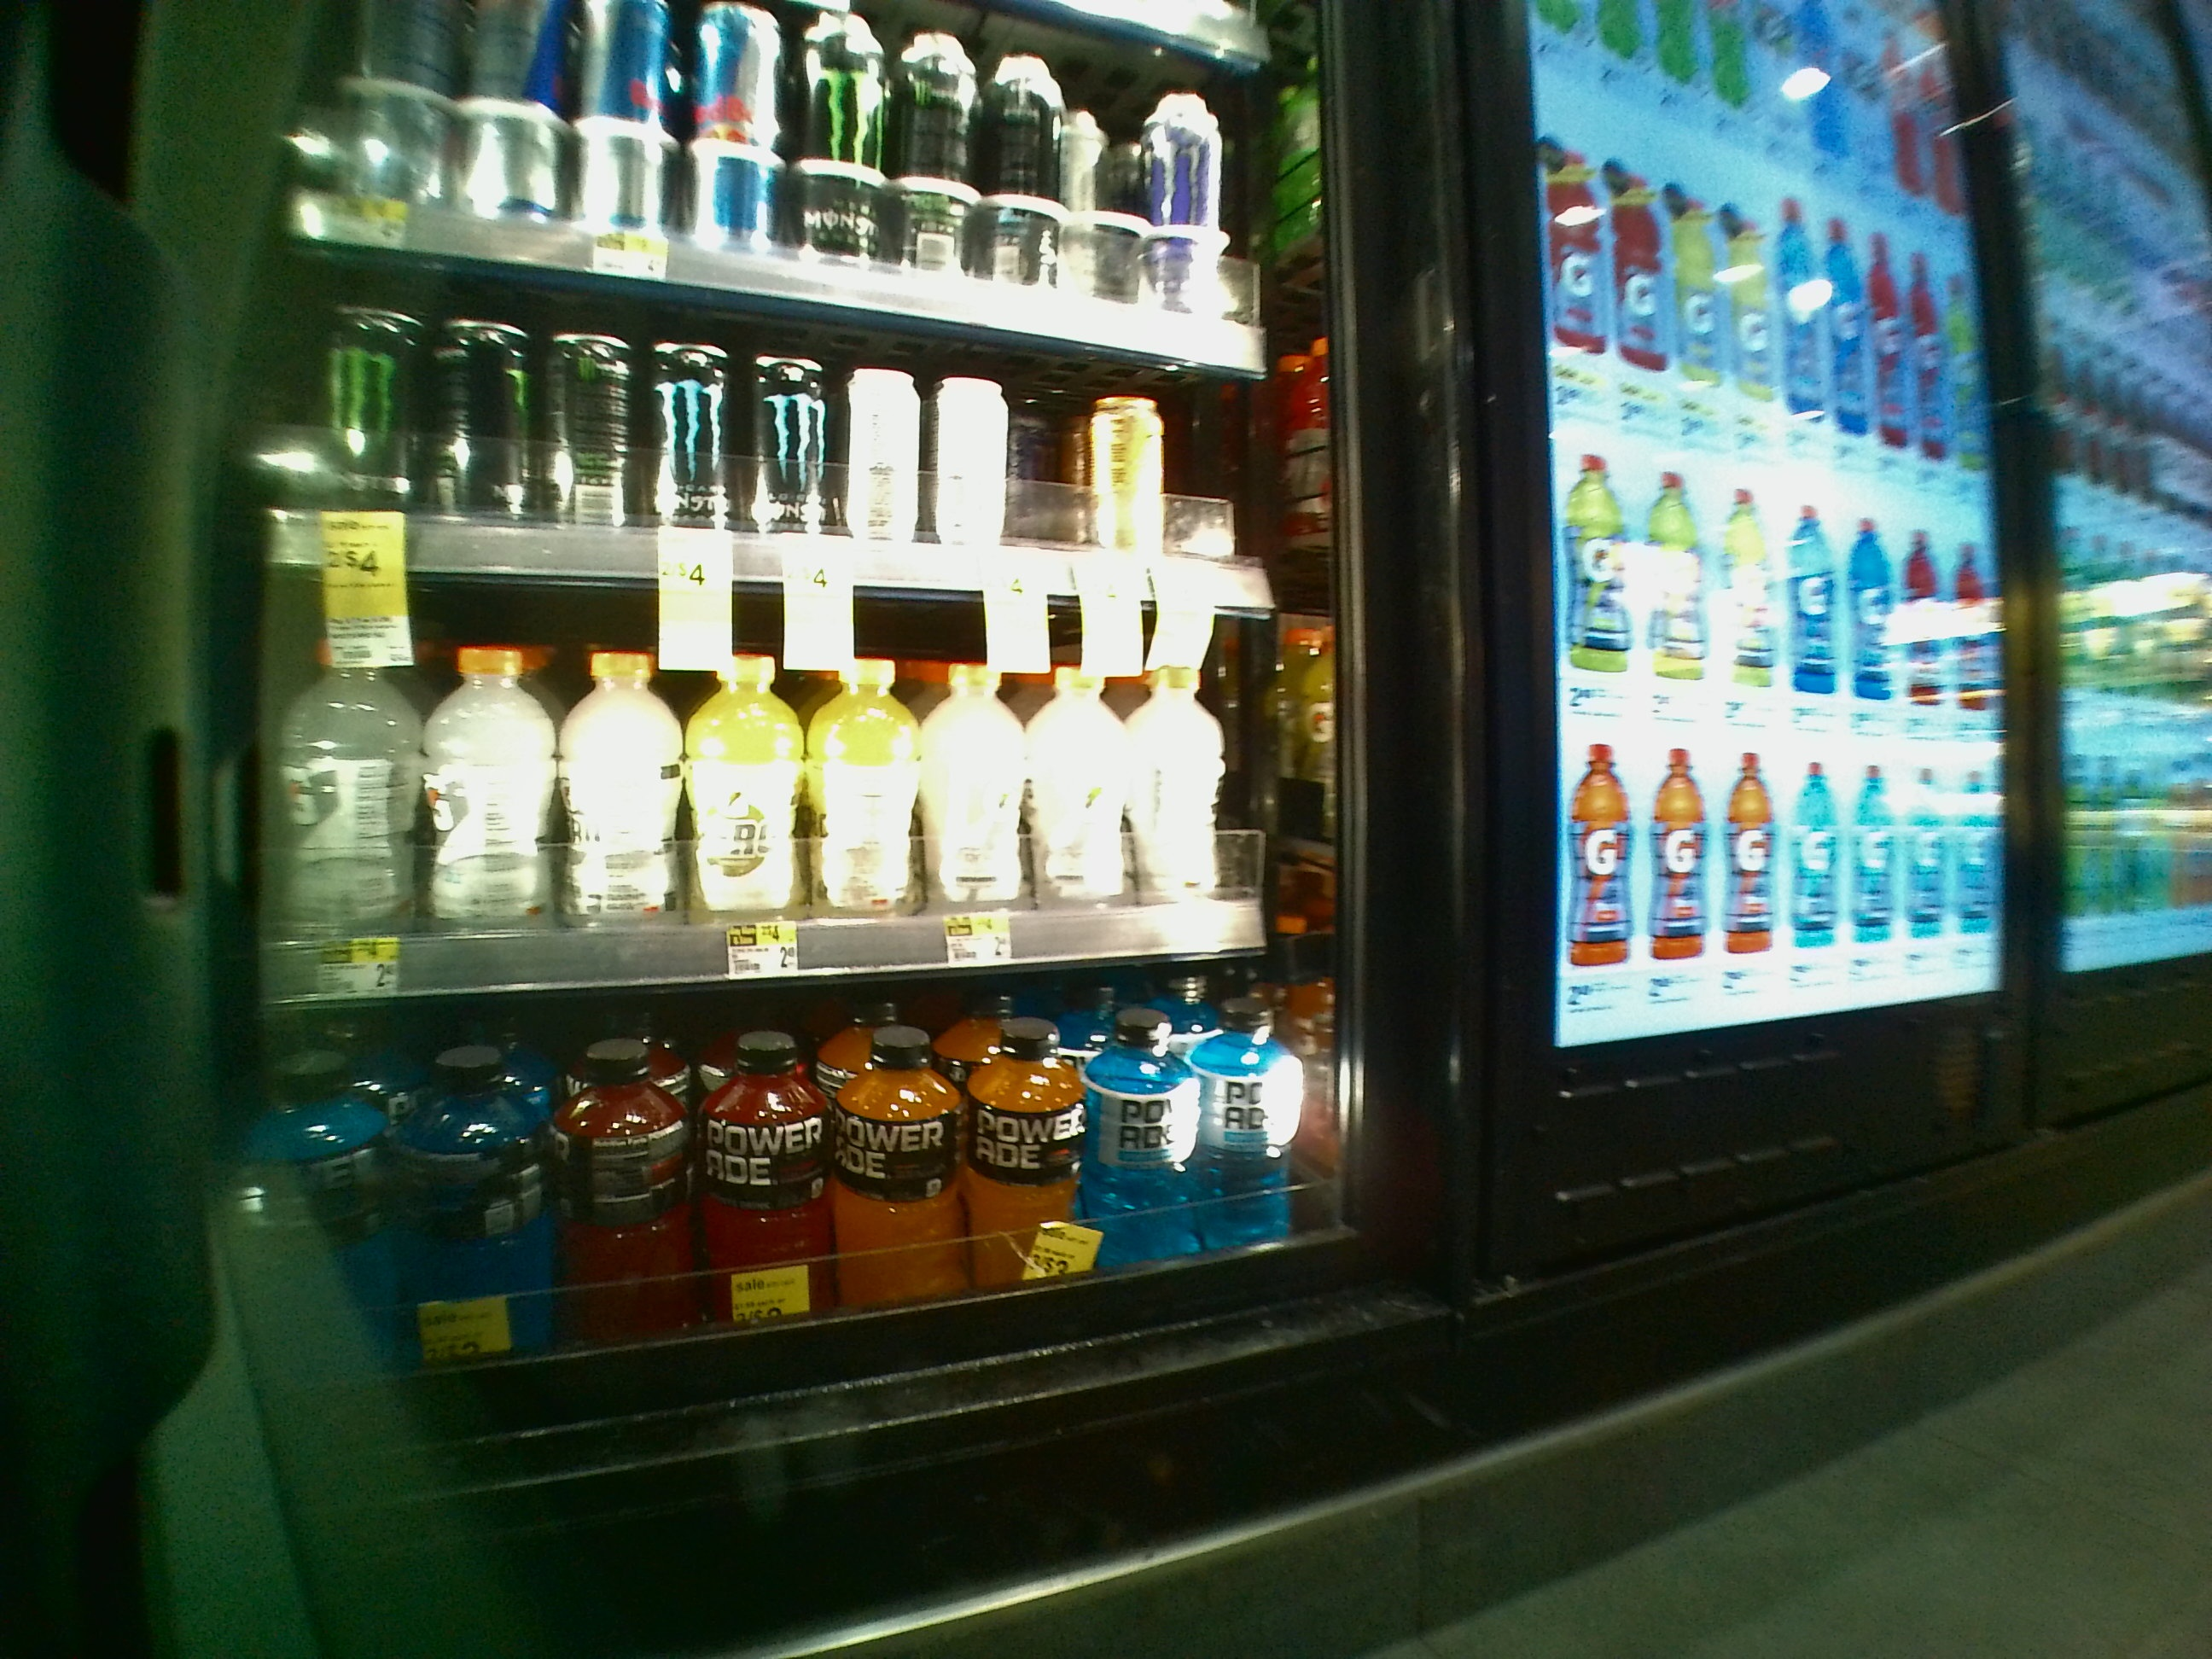shelf: (228, 556, 1397, 999)
